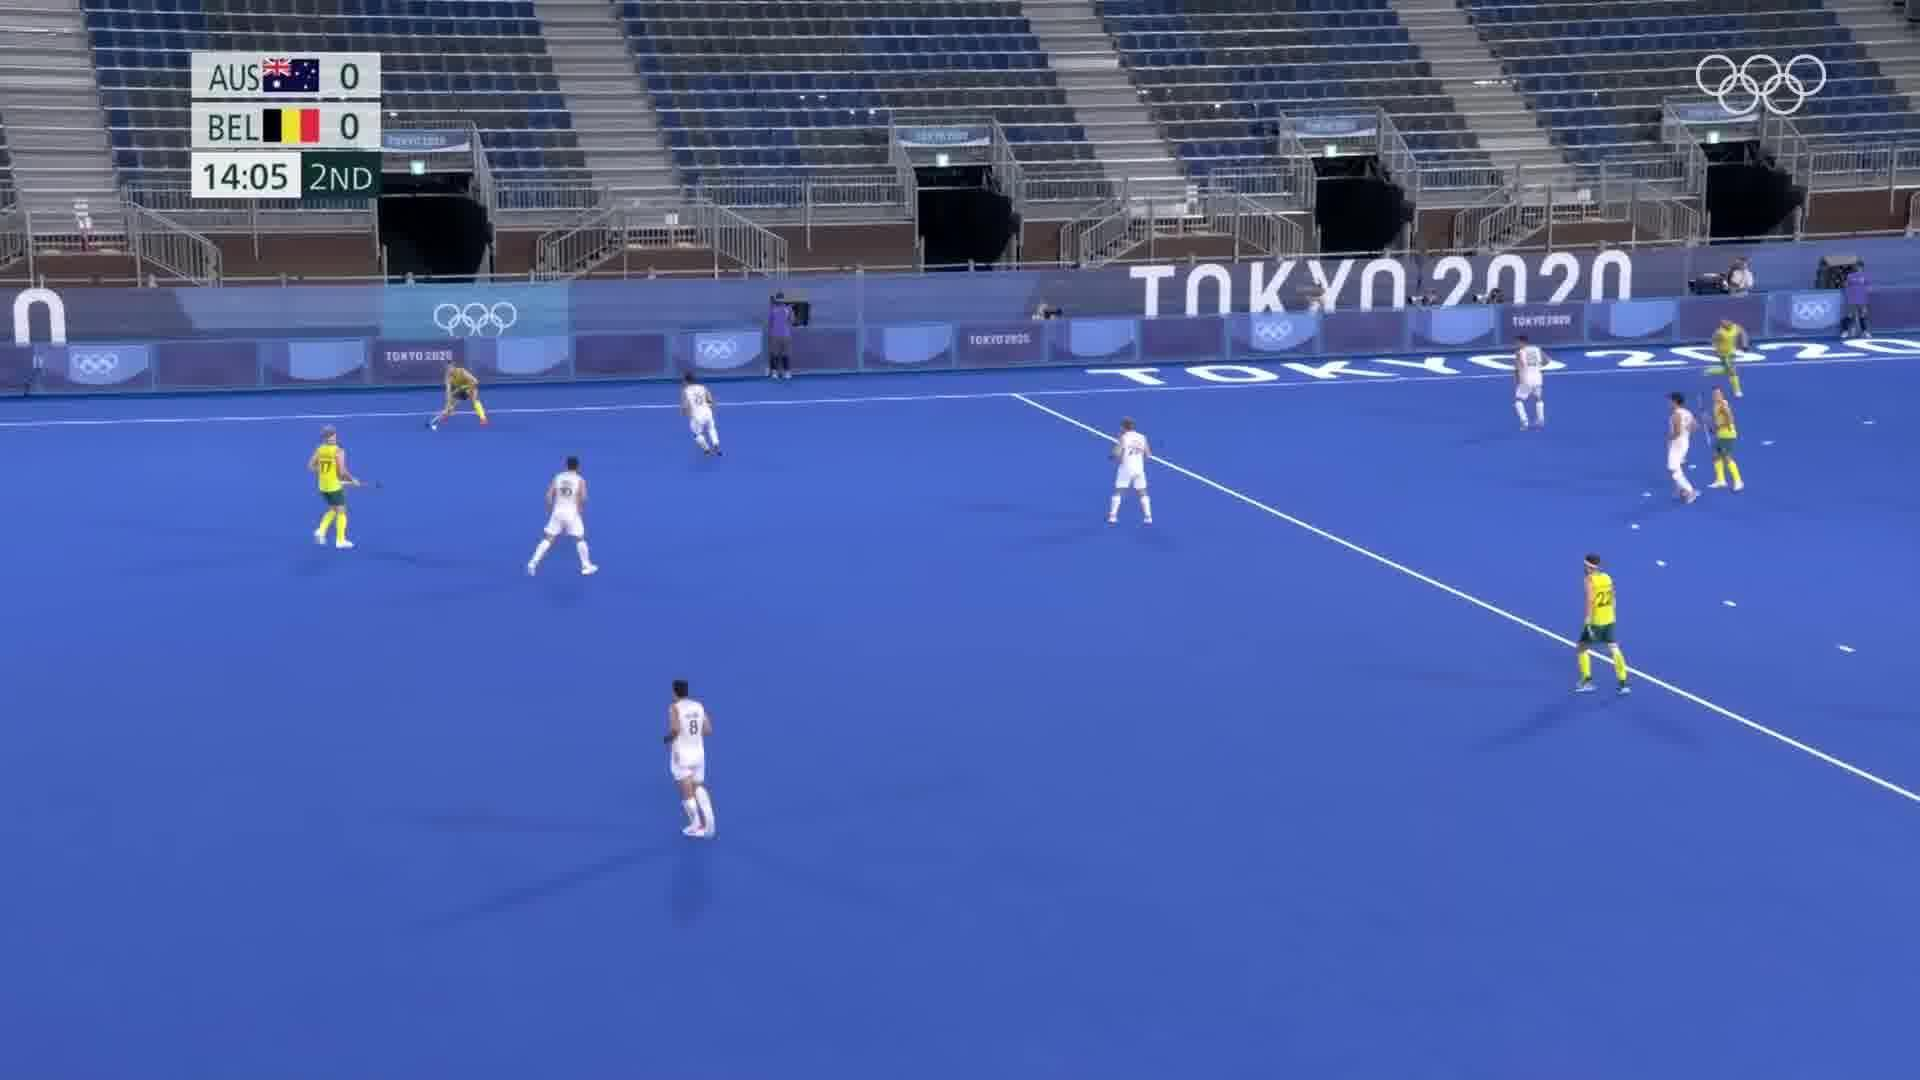ball: (427, 422, 443, 433)
